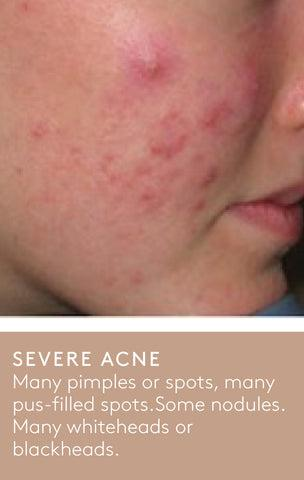Oily-Skin: (106, 60, 272, 259)
acne marks: (80, 255, 103, 286)
